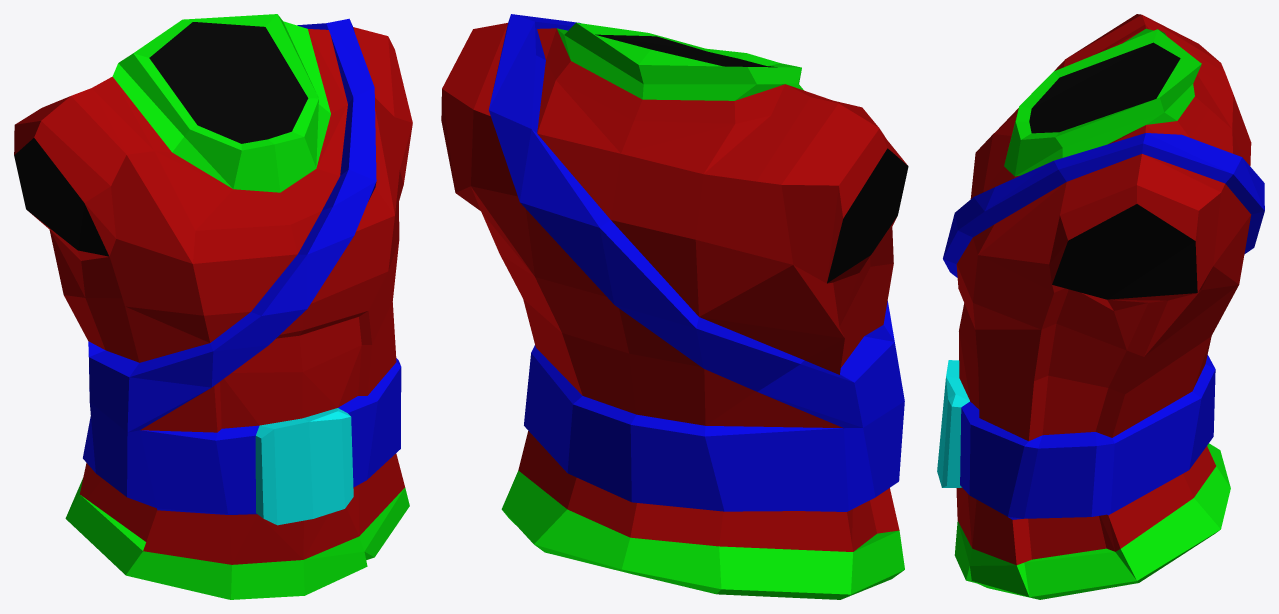
Rendered from Chr_Torso_Male_Static_18.fbx.
The picture shows the model from 3 angles, left to right: view 1: azimuth 30°, elevation 25°; view 2: azimuth 150°, elevation 25°; view 3: azimuth 270°, elevation 25°; orthographic projection. The views are drawn at different scales.
Visible parts, largest first — view 1: Chr_Torso_Male_18; view 2: Chr_Torso_Male_18; view 3: Chr_Torso_Male_18.
Boxes of the visible parts, <box> form: Chr_Torso_Male_18: <box>14,14,412,599</box>; Chr_Torso_Male_18: <box>441,14,908,599</box>; Chr_Torso_Male_18: <box>937,14,1264,599</box>.
Bounding box in the file's own units: 50.2 × 65.69 × 39.1.
